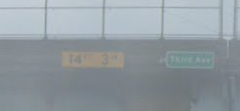1: (65, 51, 75, 65)
3: (98, 51, 110, 67)
4: (73, 51, 82, 66)
overheadsign: (61, 51, 124, 70)
